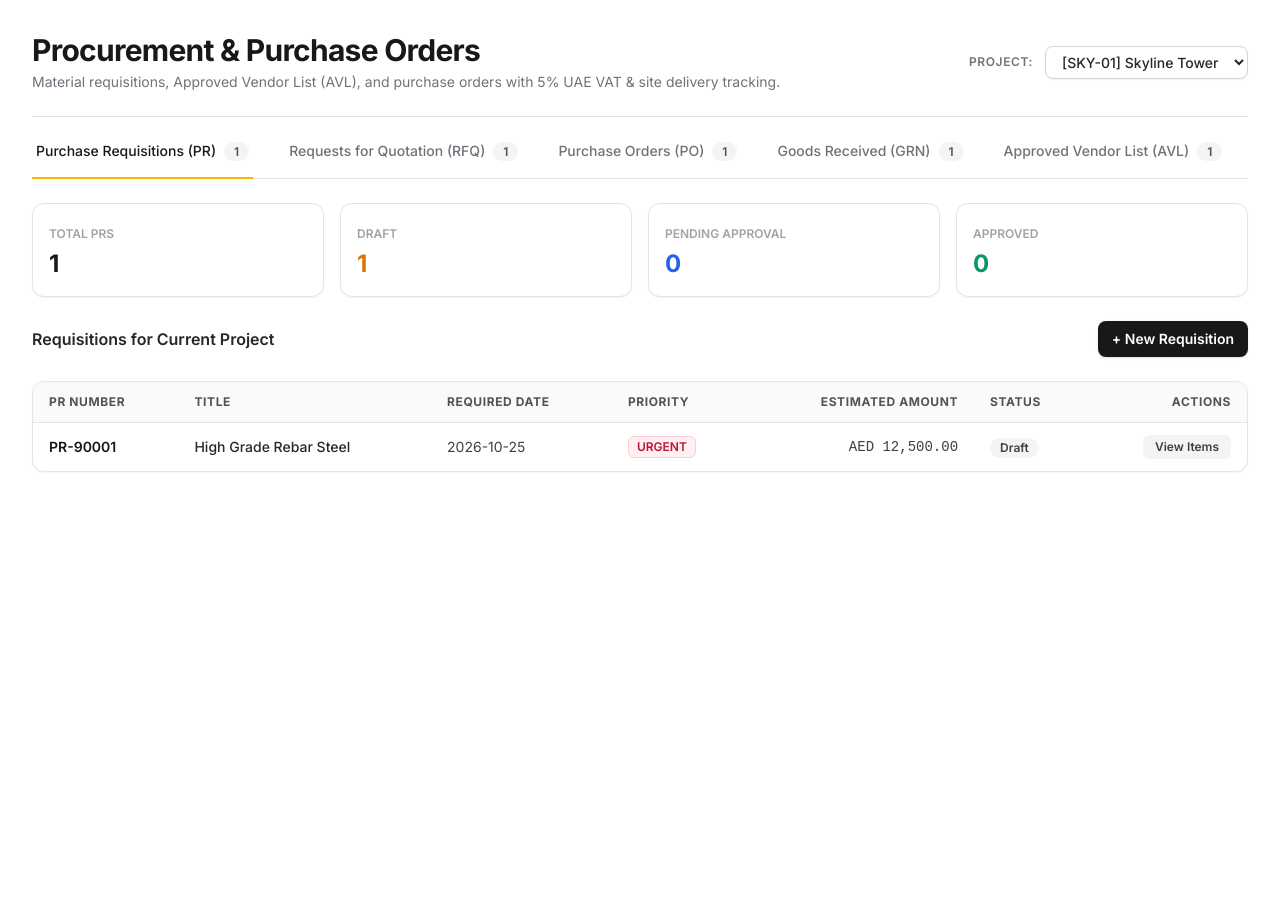
it: ProcurementPage › lists purchase requisitions and allows opening drawer
Expected: the text "PR-90001" is shown, [33,422,178,471]
Expected: the text "High Grade Rebar Steel" is shown, [178,422,431,471]
// Click "View Items"
Click the button "View Items" at [1187, 447], box [1143,435,1231,459]
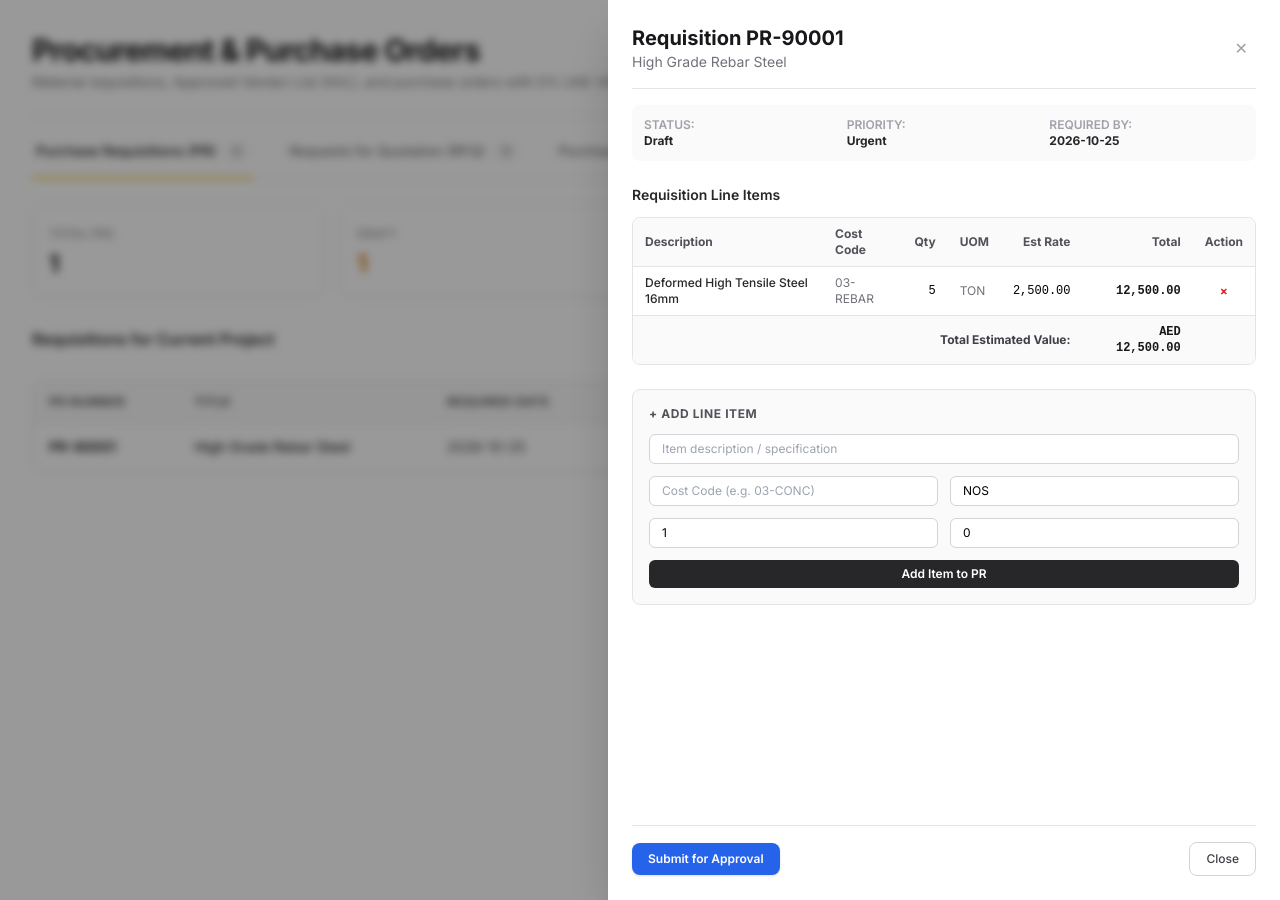
Expected: the heading "Requisition Line Items" is shown, [632,186,780,203]
Expected: the text "Deformed High Tensile Steel 16mm" is shown, [633,266,823,316]
Expected: the button "Submit for Approval" is shown, [632,843,780,875]
